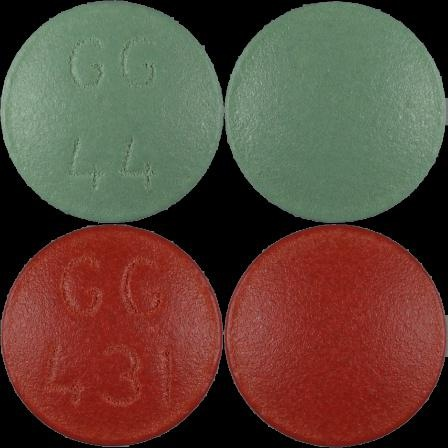43353-163: (0, 0, 224, 224)
